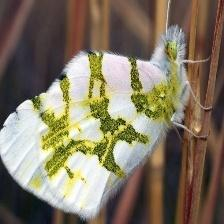butterfly: (0, 26, 190, 218)
